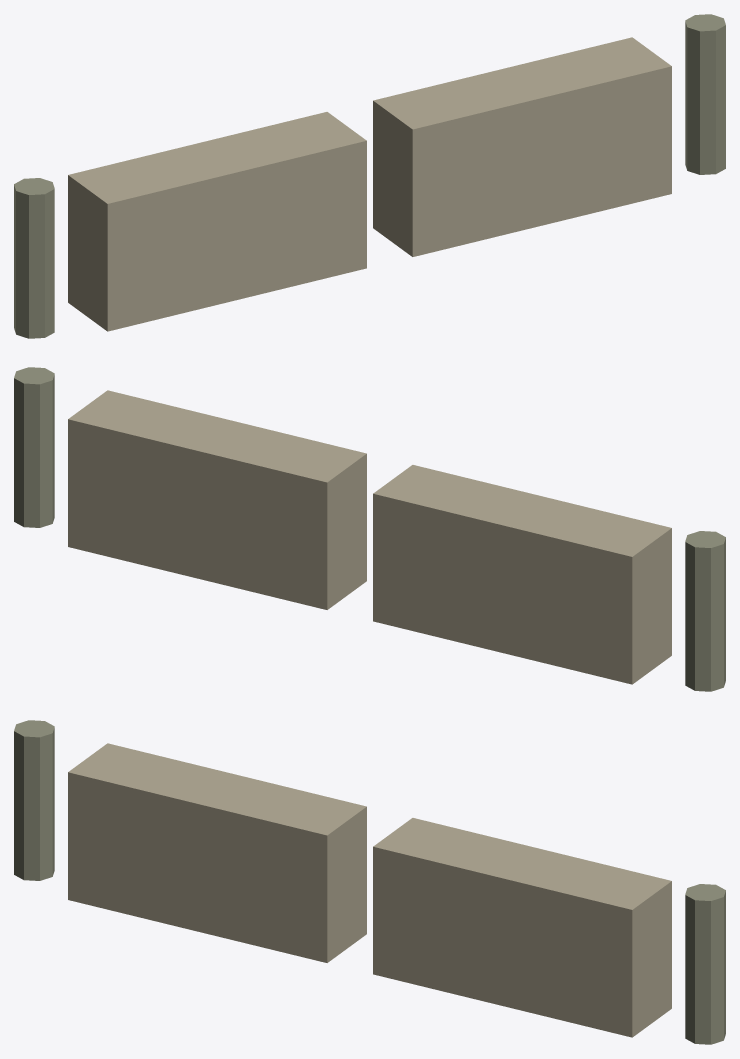
File: barrier-set.glb
3 views of the same model, one above another, from view 1: azimuth 30°, elevation 25°; view 2: azimuth 150°, elevation 25°; view 3: azimuth 330°, elevation 25° (orthographic).
Visible parts, largest first — view 1: barrier-set-0, barrier-set-1, barrier-set-2, barrier-set-3; view 2: barrier-set-0, barrier-set-1, barrier-set-2, barrier-set-3; view 3: barrier-set-0, barrier-set-1, barrier-set-2, barrier-set-3.
Boxes of the visible parts, x1,y1,x2,y2 form: barrier-set-0: (68, 112, 366, 331); barrier-set-1: (373, 37, 671, 256); barrier-set-2: (14, 178, 54, 338); barrier-set-3: (685, 14, 725, 174); barrier-set-0: (373, 465, 671, 684); barrier-set-1: (68, 390, 366, 609); barrier-set-2: (685, 531, 725, 691); barrier-set-3: (14, 367, 54, 527); barrier-set-0: (68, 743, 366, 962); barrier-set-1: (373, 818, 671, 1037); barrier-set-2: (14, 720, 54, 880); barrier-set-3: (685, 884, 725, 1044).
Size of the model in its own units: 4.64 by 0.9 by 0.45.
